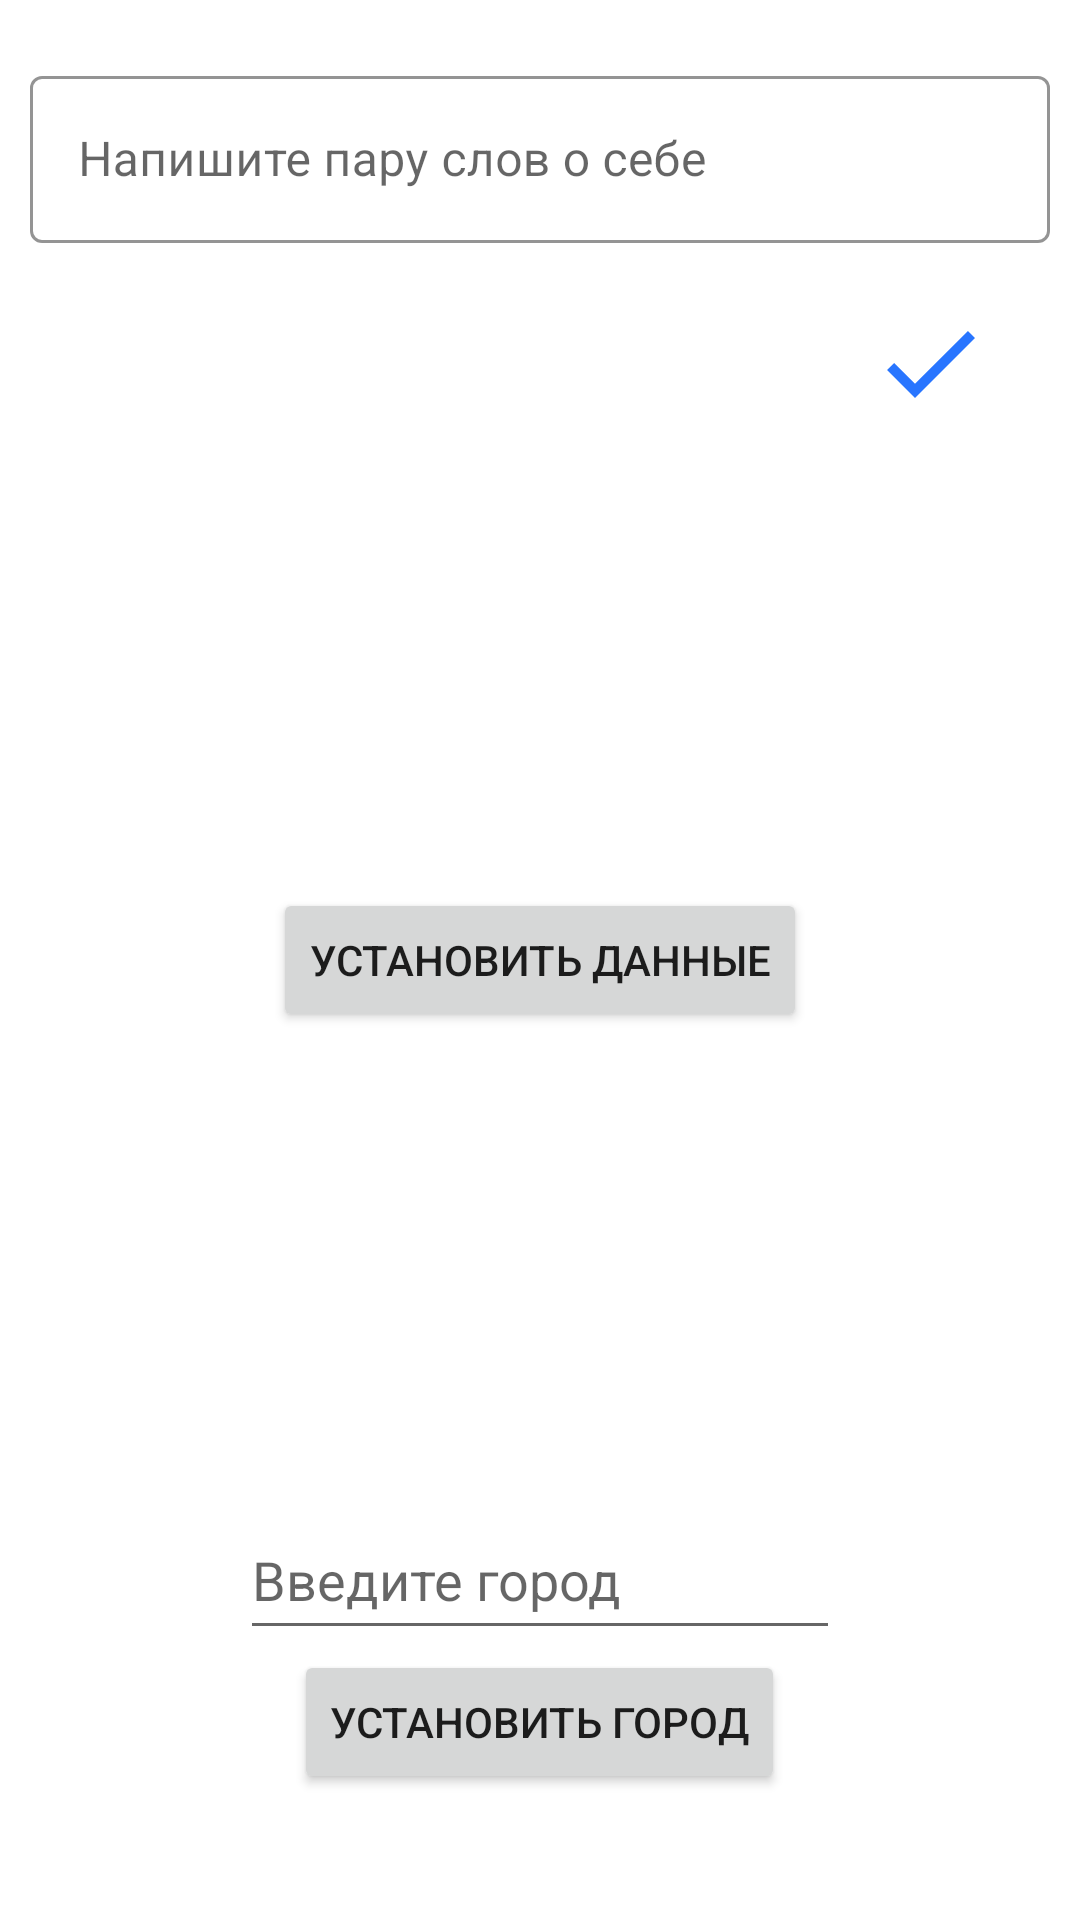

Icons on this 1080x1920 Android screen, each with the point to tap as [x,y]:
check: [931,364]
